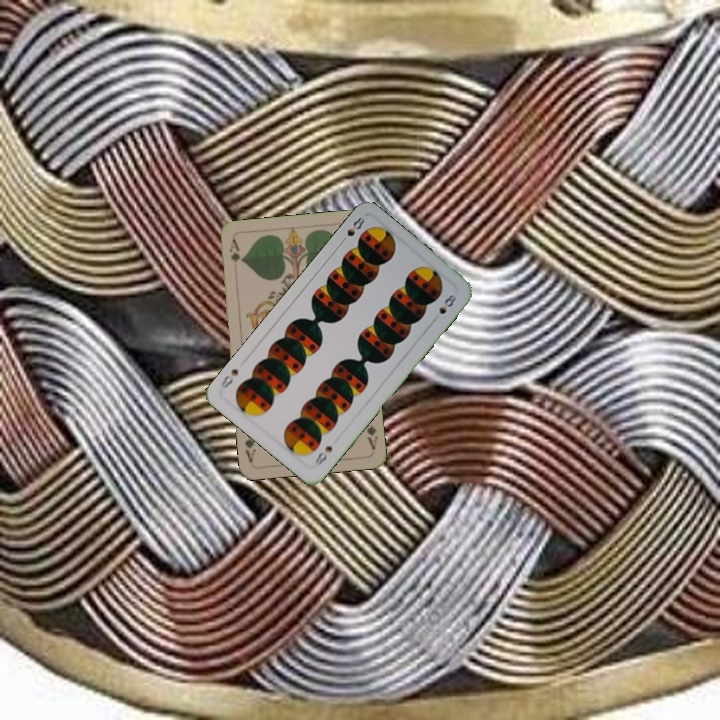GA: (225, 235, 242, 276), (359, 421, 380, 452)
S8: (336, 213, 367, 247), (311, 442, 335, 469)
